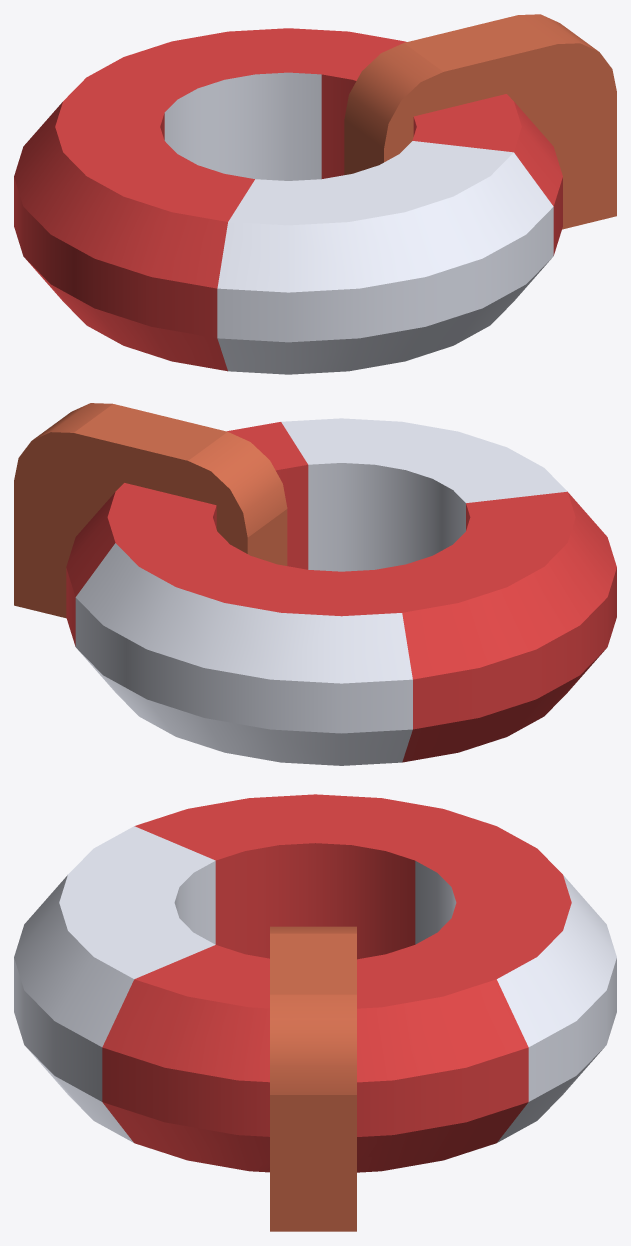
File: tire.fbx
The picture shows the model from 3 angles, top to bottom: view 1: azimuth 30°, elevation 25°; view 2: azimuth 150°, elevation 25°; view 3: azimuth 270°, elevation 25°; orthographic projection. The views are drawn at different scales.
Visible parts, largest first — view 1: detail_tireEmergencyAttachment; view 2: detail_tireEmergencyAttachment; view 3: detail_tireEmergencyAttachment.
Boxes of the visible parts, x1,y1,x2,y2 form: detail_tireEmergencyAttachment: (14, 14, 616, 374); detail_tireEmergencyAttachment: (14, 403, 616, 765); detail_tireEmergencyAttachment: (14, 794, 616, 1231).
Bounding box in the file's own units: 13.77 × 4.5 × 12.
